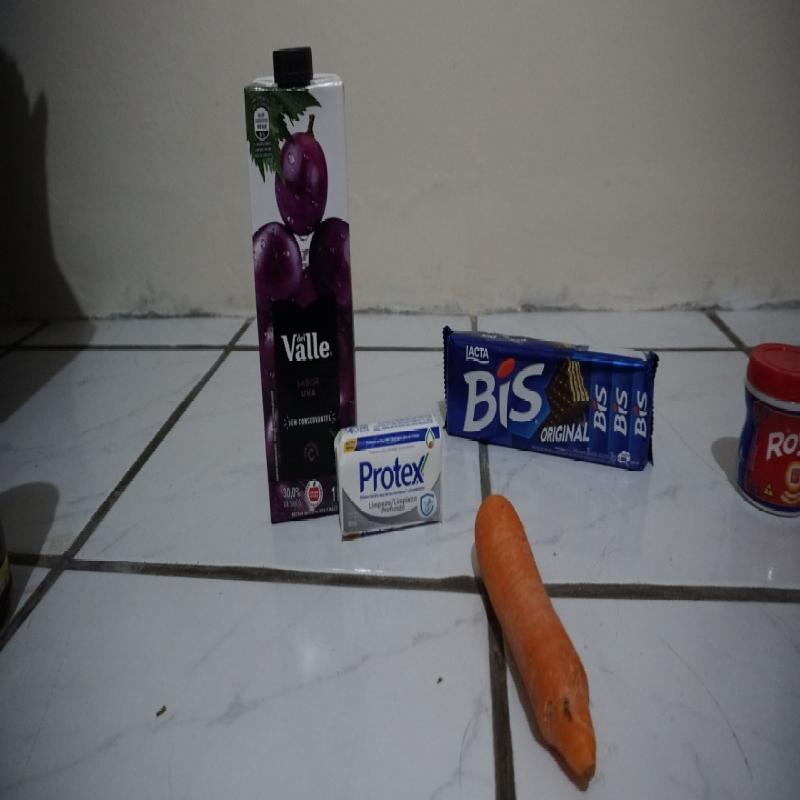Carrot: (470, 490, 600, 782)
Soap: (337, 417, 442, 532)
Yeast: (732, 338, 800, 516)
